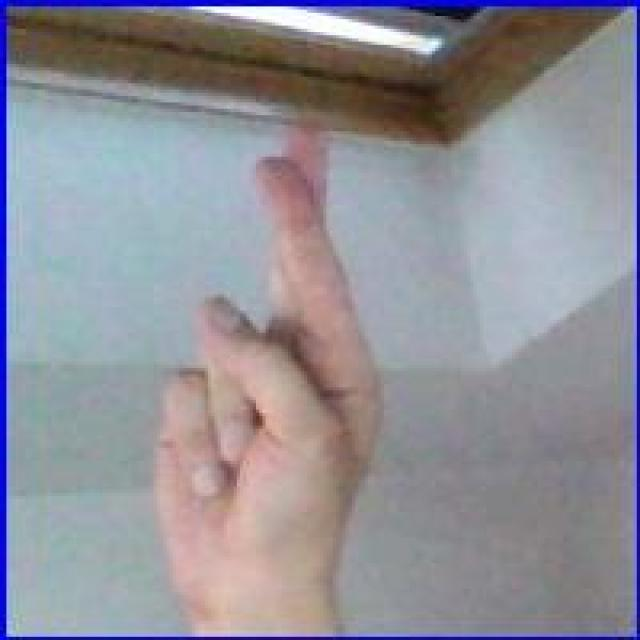R: (144, 113, 397, 564)
